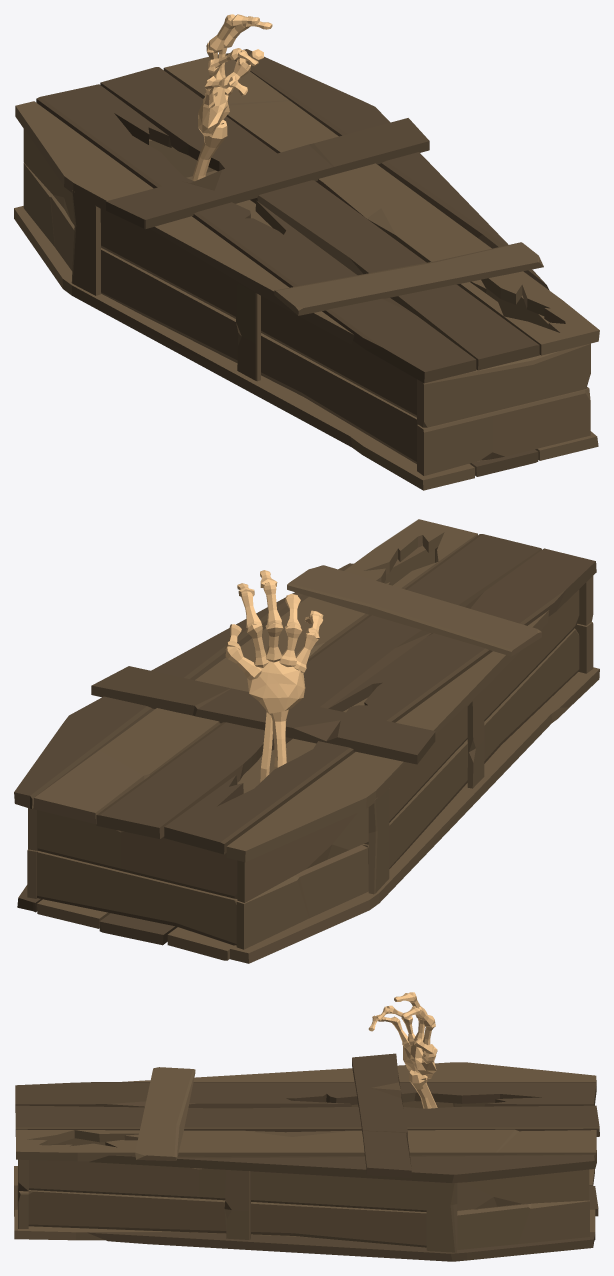
File: WF_LP_HT_Props_Coffin.003.fbx
3 renders of one model, top to bottom at view 1: azimuth 30°, elevation 25°; view 2: azimuth 150°, elevation 25°; view 3: azimuth 270°, elevation 25°, orthographic. The views are drawn at different scales.
Parts seen in each view (by area): view 1: WF_LP_HT_Props_Coffin.003; view 2: WF_LP_HT_Props_Coffin.003; view 3: WF_LP_HT_Props_Coffin.003.
Part boxes in pixels (x1,y1,x2,y2): WF_LP_HT_Props_Coffin.003: [14, 14, 599, 490]; WF_LP_HT_Props_Coffin.003: [14, 519, 599, 963]; WF_LP_HT_Props_Coffin.003: [14, 992, 599, 1261].
Size of the model in its own units: 1.05 by 0.8667 by 2.21.
